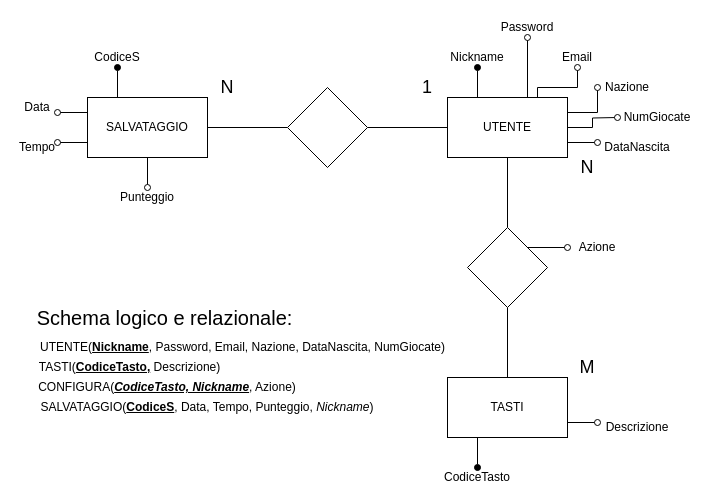
Image size: 708x504. Some labels were removed from this diagram. The shapes that lost their labels are listed below. From the top down, each one's box as (x1, y1, x2, y2) in pixels, then its label:
(286, 86, 368, 168): SALVARE
(466, 226, 548, 308): CONFIGURA
